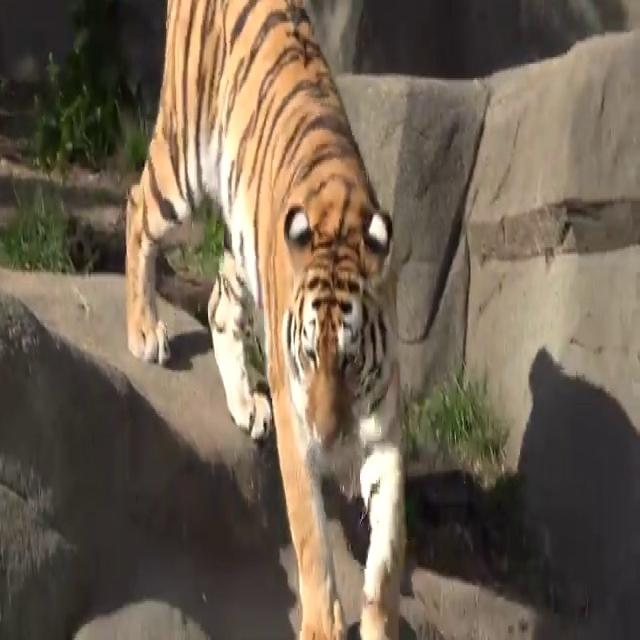tiger: (125, 0, 407, 640)
